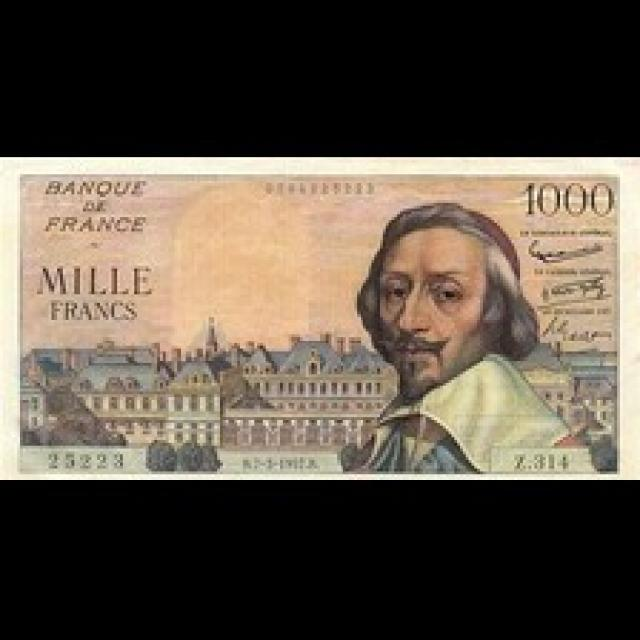banknote: (0, 151, 631, 474), (512, 172, 622, 218)
